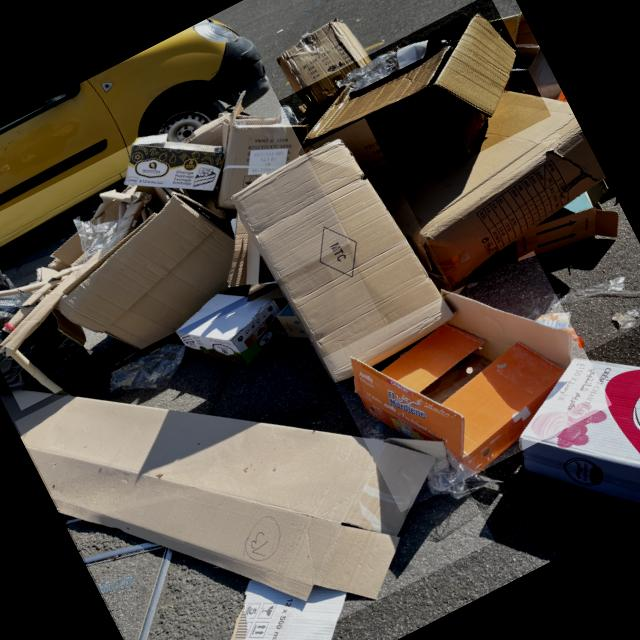Other Carton: (14, 251, 495, 640), (0, 75, 351, 410), (322, 250, 612, 512), (220, 118, 465, 388), (274, 0, 551, 225), (487, 309, 640, 551)
